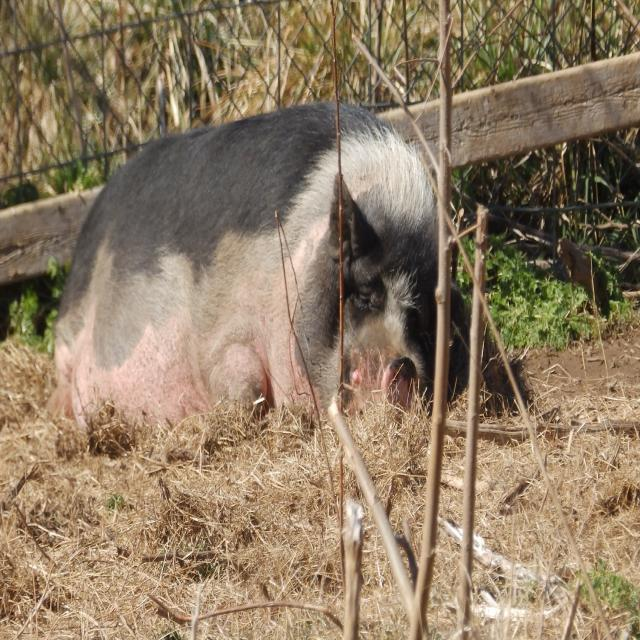pig: (48, 102, 465, 430)
